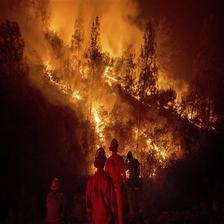fire: (25, 17, 194, 141)
